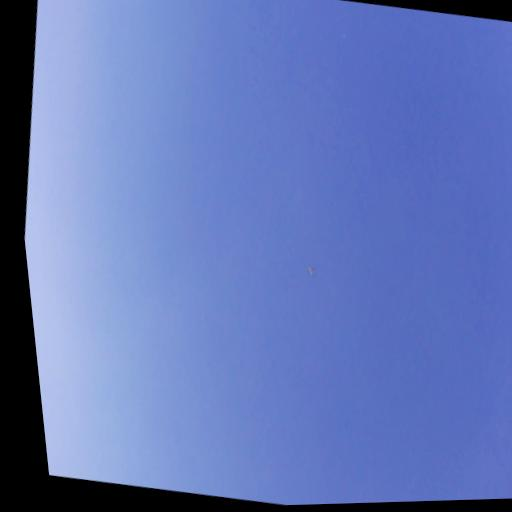drones: (303, 257, 320, 281)
